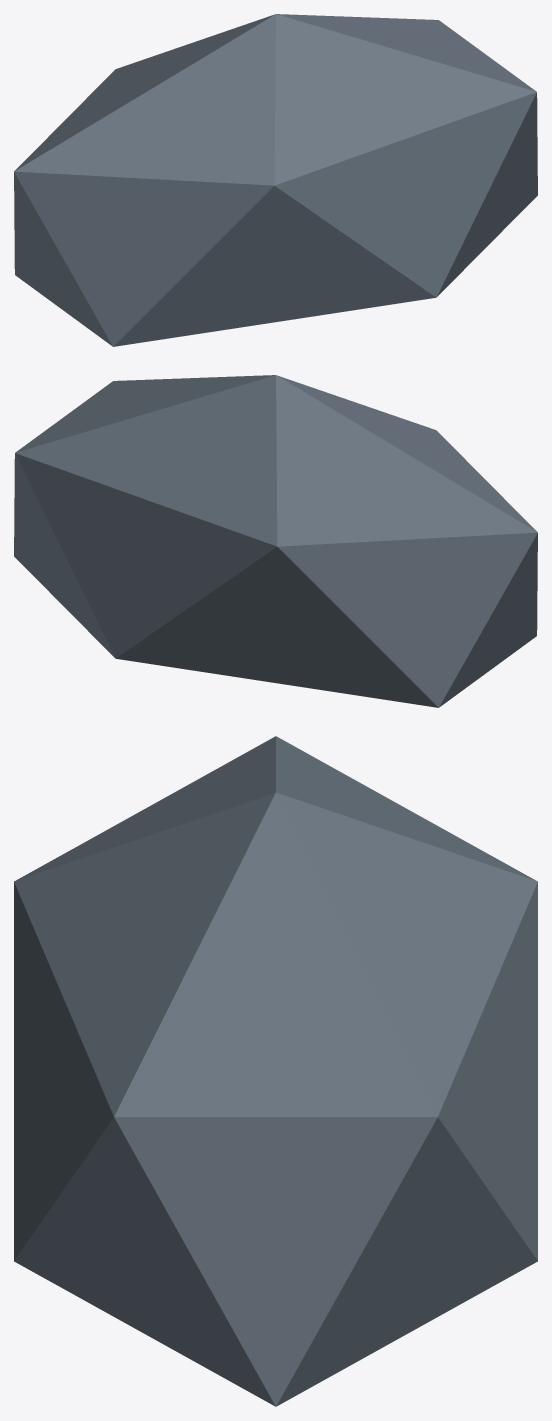
File: rock2.fbx
The picture shows the model from 3 angles, top to bottom: view 1: azimuth 30°, elevation 25°; view 2: azimuth 150°, elevation 25°; view 3: azimuth 270°, elevation 25°; orthographic projection. The views are drawn at different scales.
Parts seen in each view (by area): view 1: rock2; view 2: rock2; view 3: rock2.
Part boxes in pixels (<box>): rock2: <box>14,14,537,346</box>; rock2: <box>14,375,537,707</box>; rock2: <box>14,736,537,1406</box>.
Bounding box in the file's own units: 95.04 × 42.51 × 49.97.
